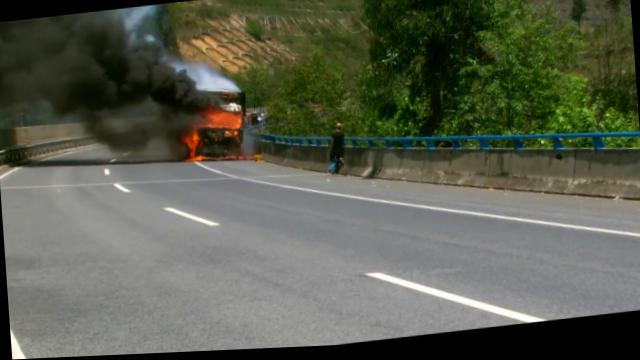fire: (205, 111, 242, 130), (186, 131, 200, 156), (186, 154, 203, 163)
